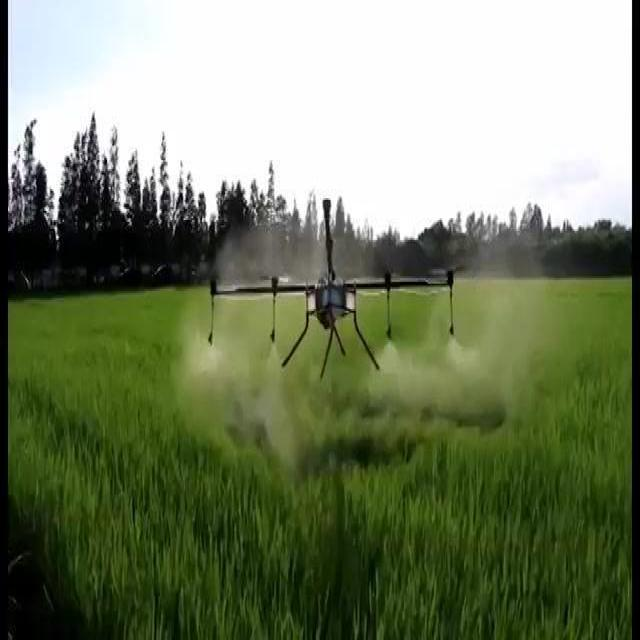drone: (204, 195, 464, 377)
